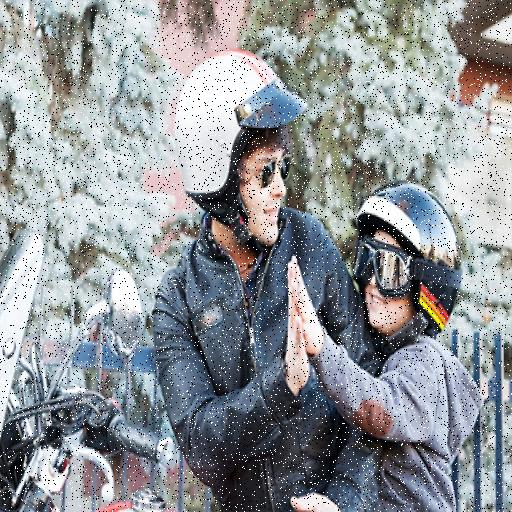Helmet: (177, 54, 296, 255), (344, 174, 453, 342)
Motor: (4, 226, 154, 512)
